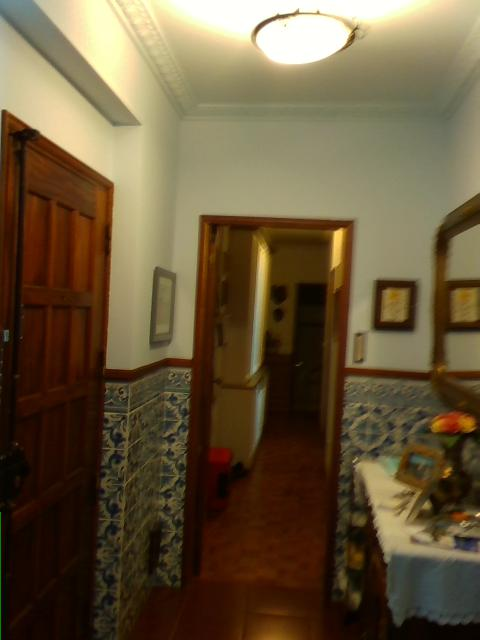door: (16, 140, 108, 640)
